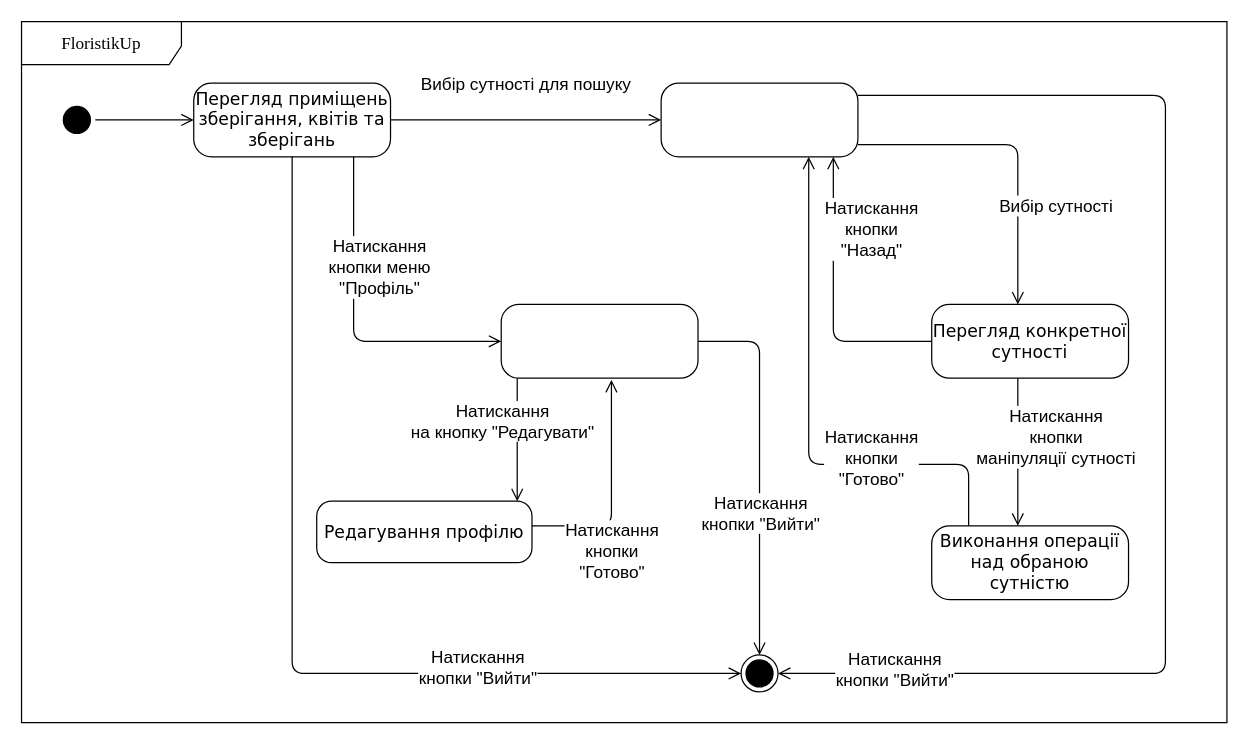
This 1248x744 diagram has some shape labels left out. The shapes that lost their labels are listed below. From the top down, each one's box as (x1, y1, x2, y2) in pixels, then its label:
(660, 82, 858, 157): Перегляд результатів пошуку
(500, 303, 698, 378): Перегляд власного профілю
